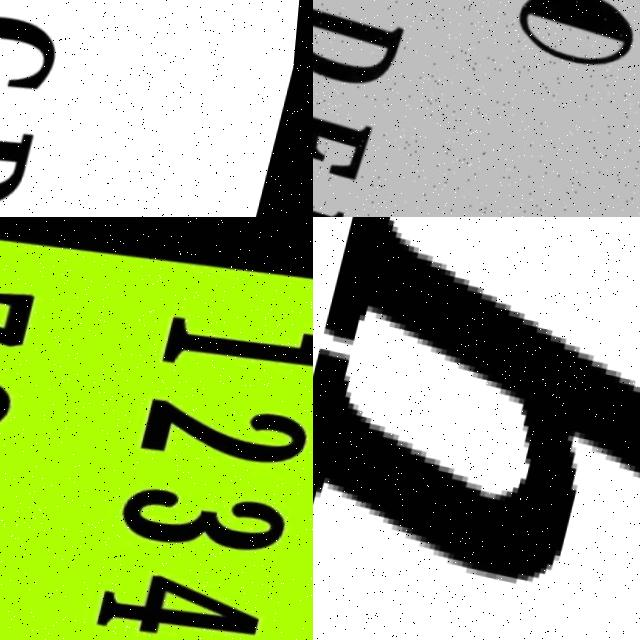0: (493, 0, 640, 90)
1: (132, 276, 313, 399)
2: (121, 361, 313, 495)
3: (112, 462, 312, 571)
4: (83, 543, 289, 640)
7: (0, 247, 63, 371)
H: (313, 217, 640, 640)
